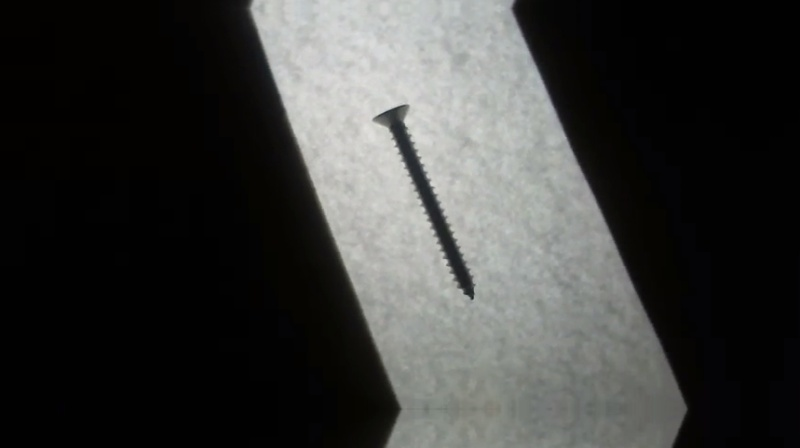S002: (369, 102, 478, 303)
